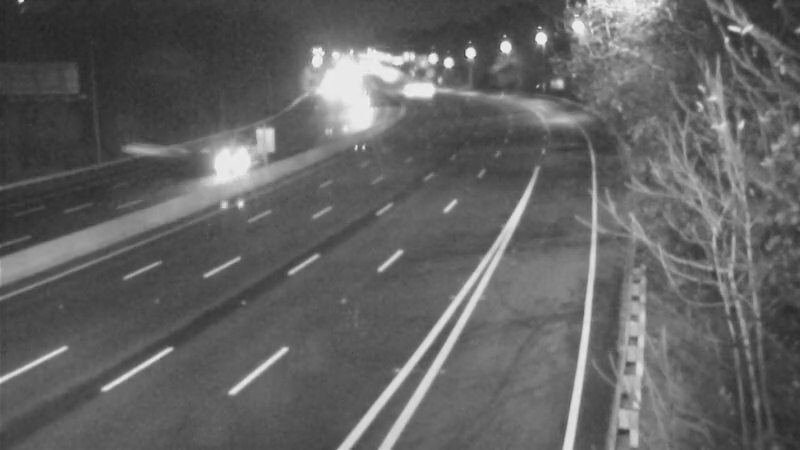vehicle: (187, 117, 267, 197), (383, 66, 433, 116), (327, 94, 377, 144)
